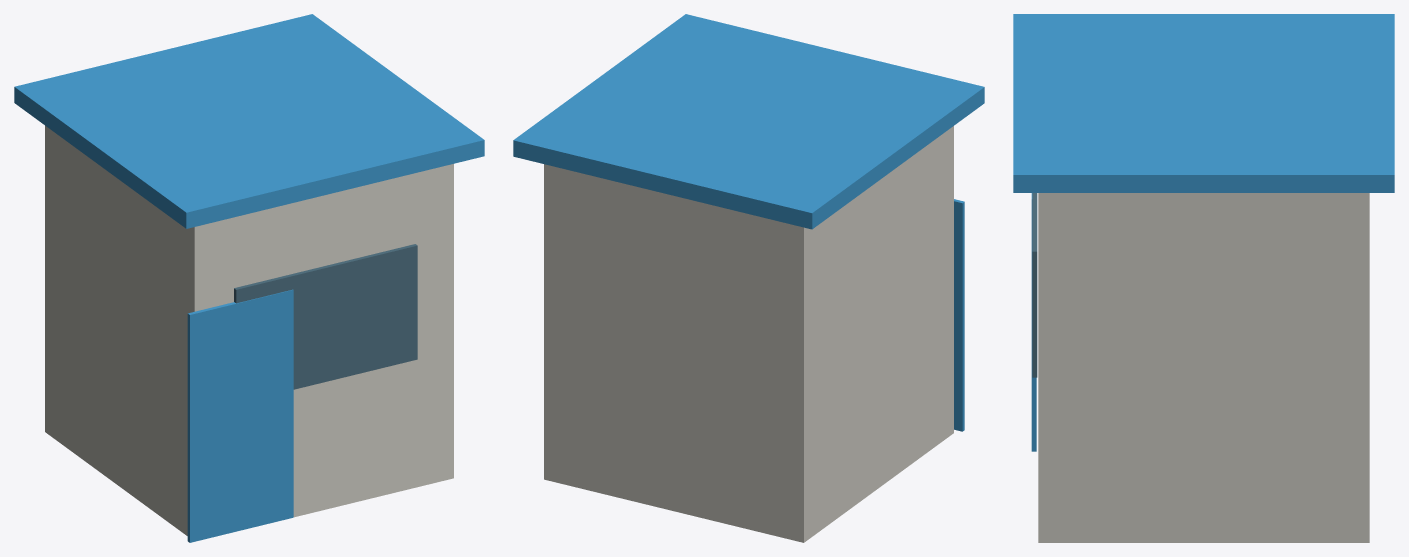
File: stock-car-oval-speedway-ticket-booth-d0b01f9a__16938.glb
3 views of the same model, side by side, from view 1: azimuth 30°, elevation 25°; view 2: azimuth 150°, elevation 25°; view 3: azimuth 270°, elevation 25° (orthographic). The views are drawn at different scales.
Visible parts, largest first — view 1: ticket-booth; view 2: ticket-booth; view 3: ticket-booth.
Part boxes in pixels (x1,y1,x2,y2): ticket-booth: [14, 14, 484, 542]; ticket-booth: [513, 14, 984, 542]; ticket-booth: [1013, 14, 1394, 542].
Size of the model in its own units: 2.3 by 2.52 by 2.3.
